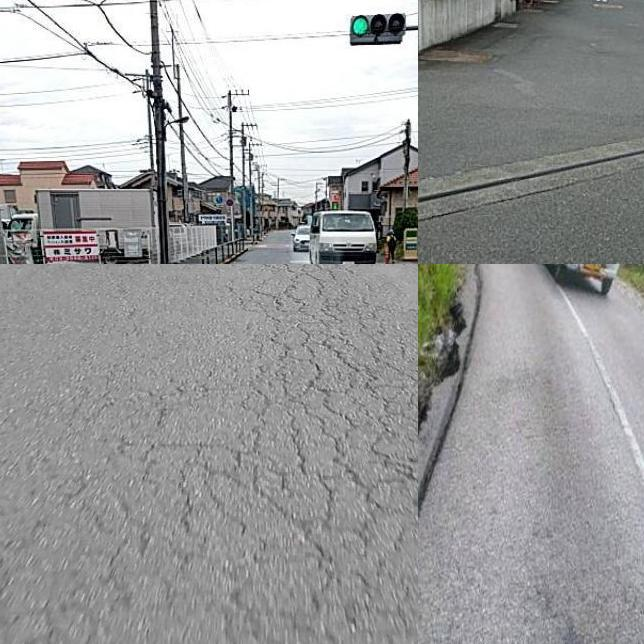Melintang: (418, 138, 644, 214)
Pinggir: (418, 264, 489, 531)
Retak Buaya: (197, 264, 418, 640)
